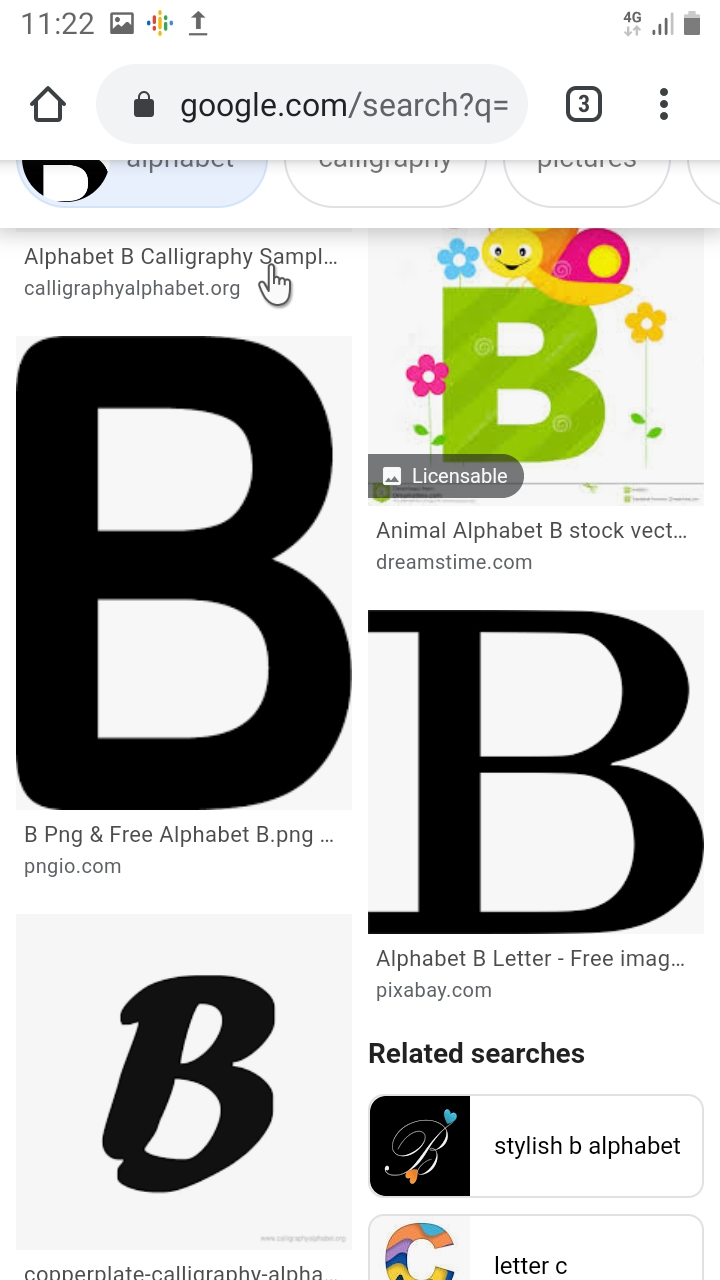zone B: (10, 315, 357, 815), (361, 596, 698, 949), (90, 957, 315, 1215), (423, 270, 615, 468)
